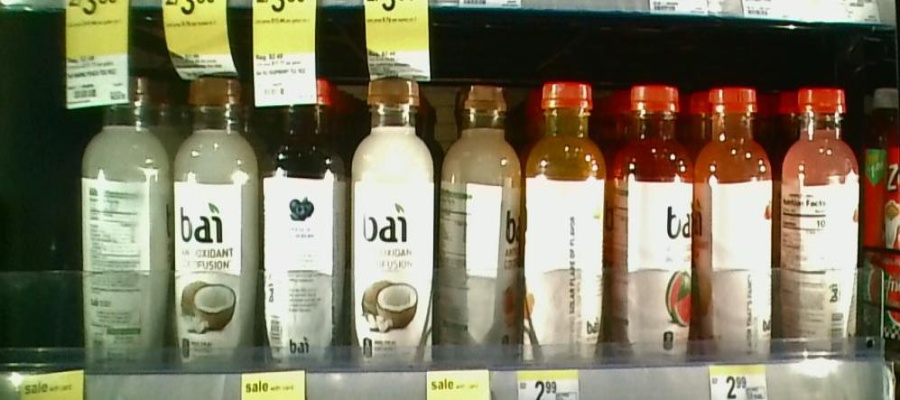bottle: (79, 68, 169, 381), (348, 67, 437, 372), (173, 73, 262, 374), (264, 69, 344, 372), (524, 77, 607, 363), (612, 78, 694, 361), (696, 86, 782, 353), (440, 77, 520, 359), (786, 83, 863, 371)
